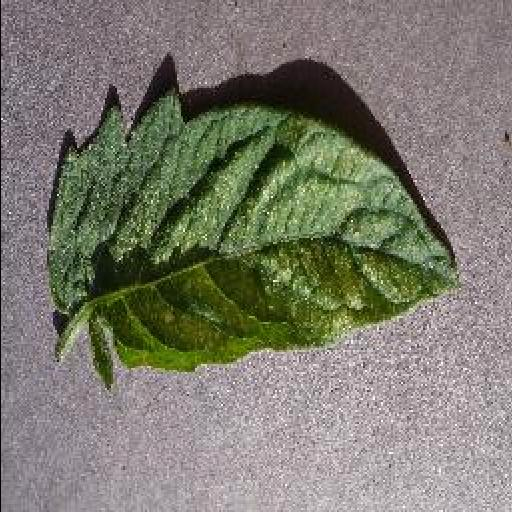disease_tomato: (44, 90, 462, 370)
